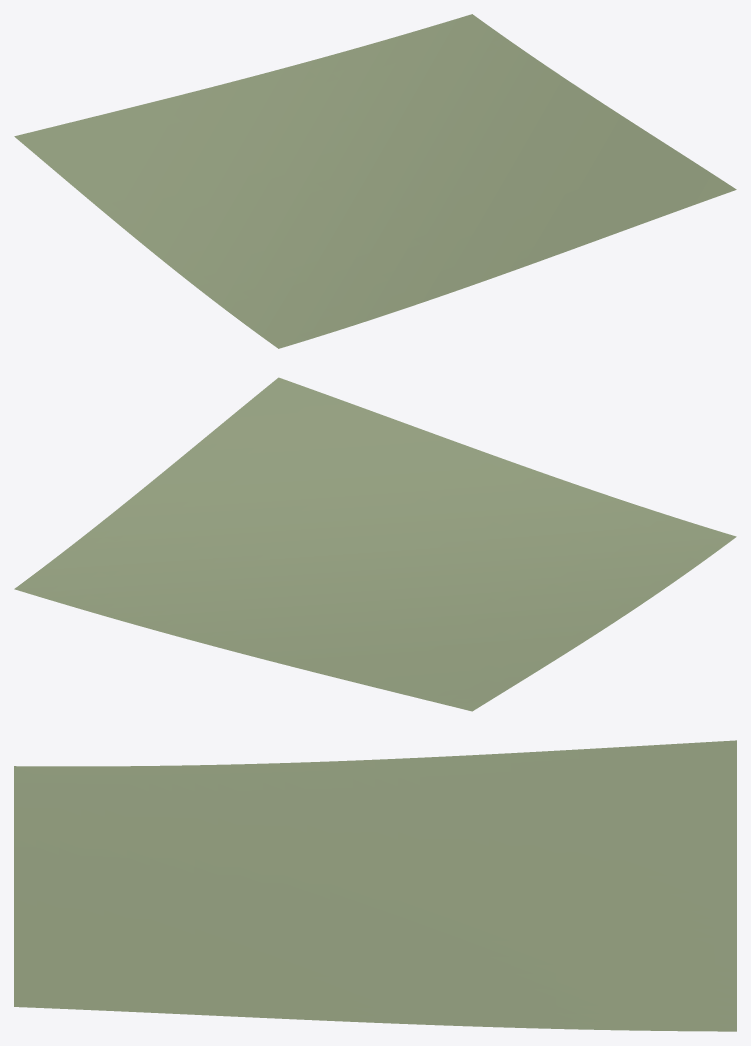
File: alpine-15-0.glb
3 renders of one model, top to bottom at view 1: azimuth 30°, elevation 25°; view 2: azimuth 150°, elevation 25°; view 3: azimuth 270°, elevation 25°, orthographic. The views are drawn at different scales.
Parts seen in each view (by area): view 1: alpine-15-0; view 2: alpine-15-0; view 3: alpine-15-0.
Boxes of the visible parts, bbox=[...] form: alpine-15-0: bbox=[14, 14, 736, 348]; alpine-15-0: bbox=[14, 377, 736, 711]; alpine-15-0: bbox=[14, 740, 736, 1031].
Size of the model in its own units: 256 by 25.4 by 256.
